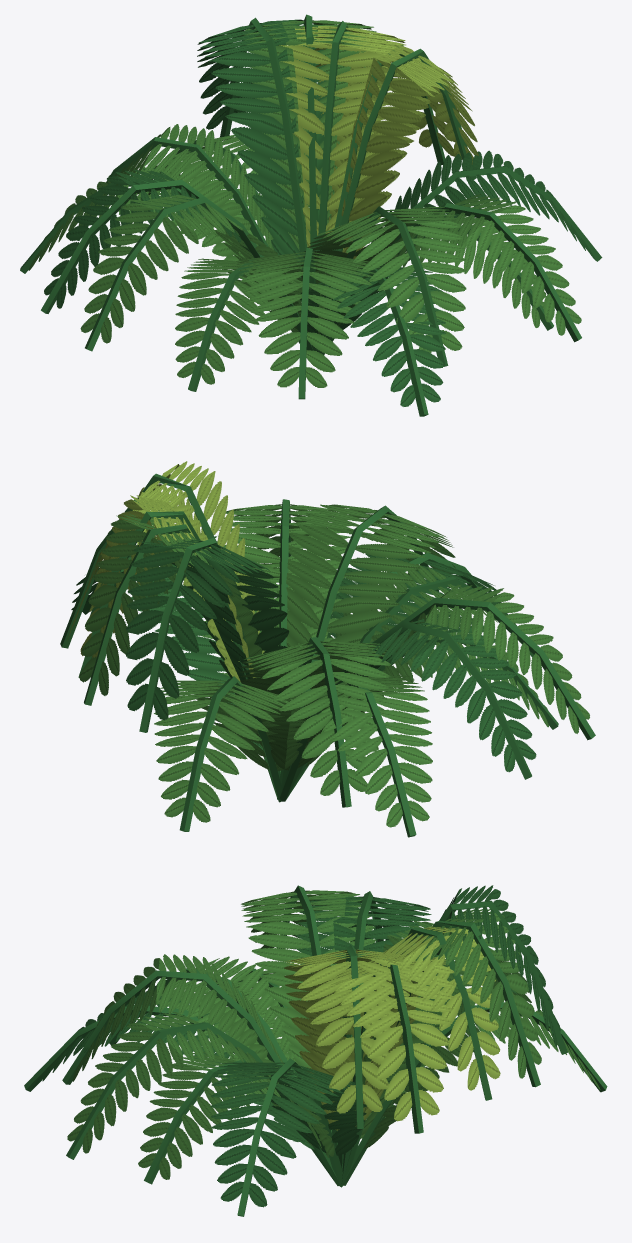
Rendered from FernClump.glb.
3 renders of one model, top to bottom at view 1: azimuth 30°, elevation 25°; view 2: azimuth 150°, elevation 25°; view 3: azimuth 270°, elevation 25°, orthographic. The views are drawn at different scales.
Parts seen in each view (by area): view 1: FernClump_Fern, FernClump_Deep; view 2: FernClump_Fern, FernClump_Deep; view 3: FernClump_Fern, FernClump_Deep.
Boxes of the visible parts, <box> form: FernClump_Fern: <box>28,19,594,406</box>; FernClump_Deep: <box>20,14,602,416</box>; FernClump_Fern: <box>67,461,589,827</box>; FernClump_Deep: <box>60,473,595,837</box>; FernClump_Fern: <box>32,885,600,1207</box>; FernClump_Deep: <box>24,885,607,1216</box>.
Bounding box in the file's own units: 5.37 × 2.78 × 5.23.
Materials: 2 (1 with a texture image).
